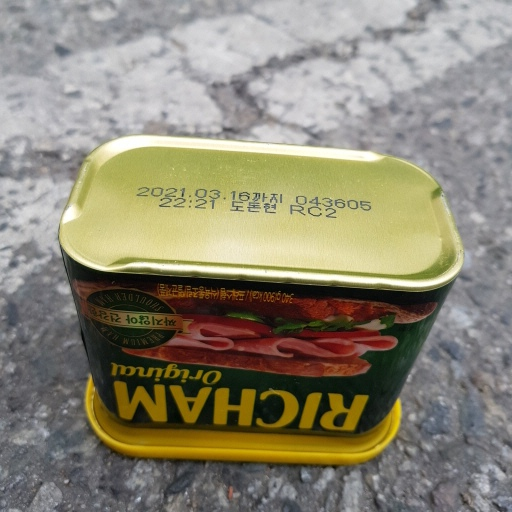Metal_2: (54, 131, 467, 461)
